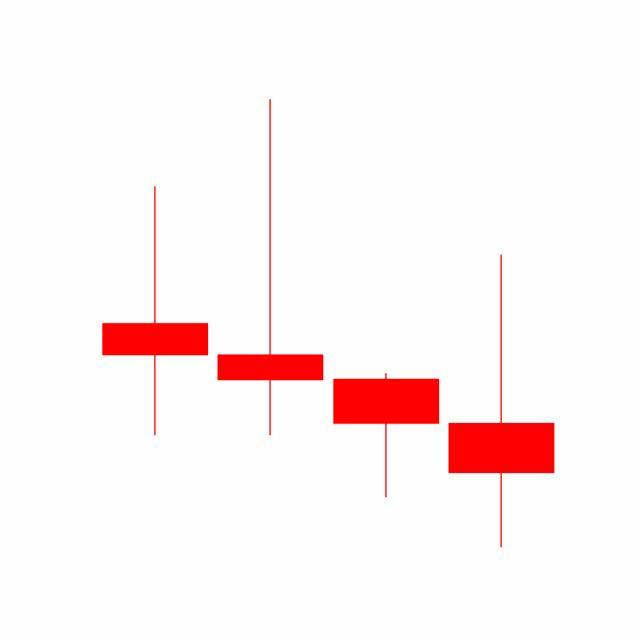Hammer: (329, 372, 445, 500)
